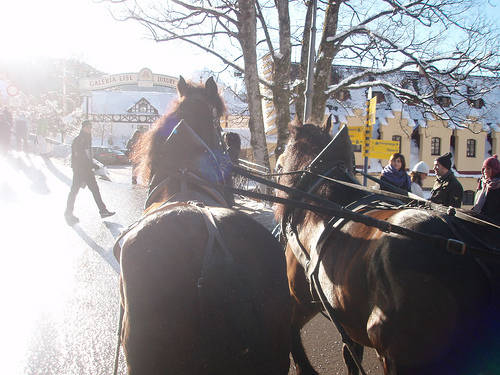horse: (271, 114, 499, 375), (115, 70, 294, 375)
